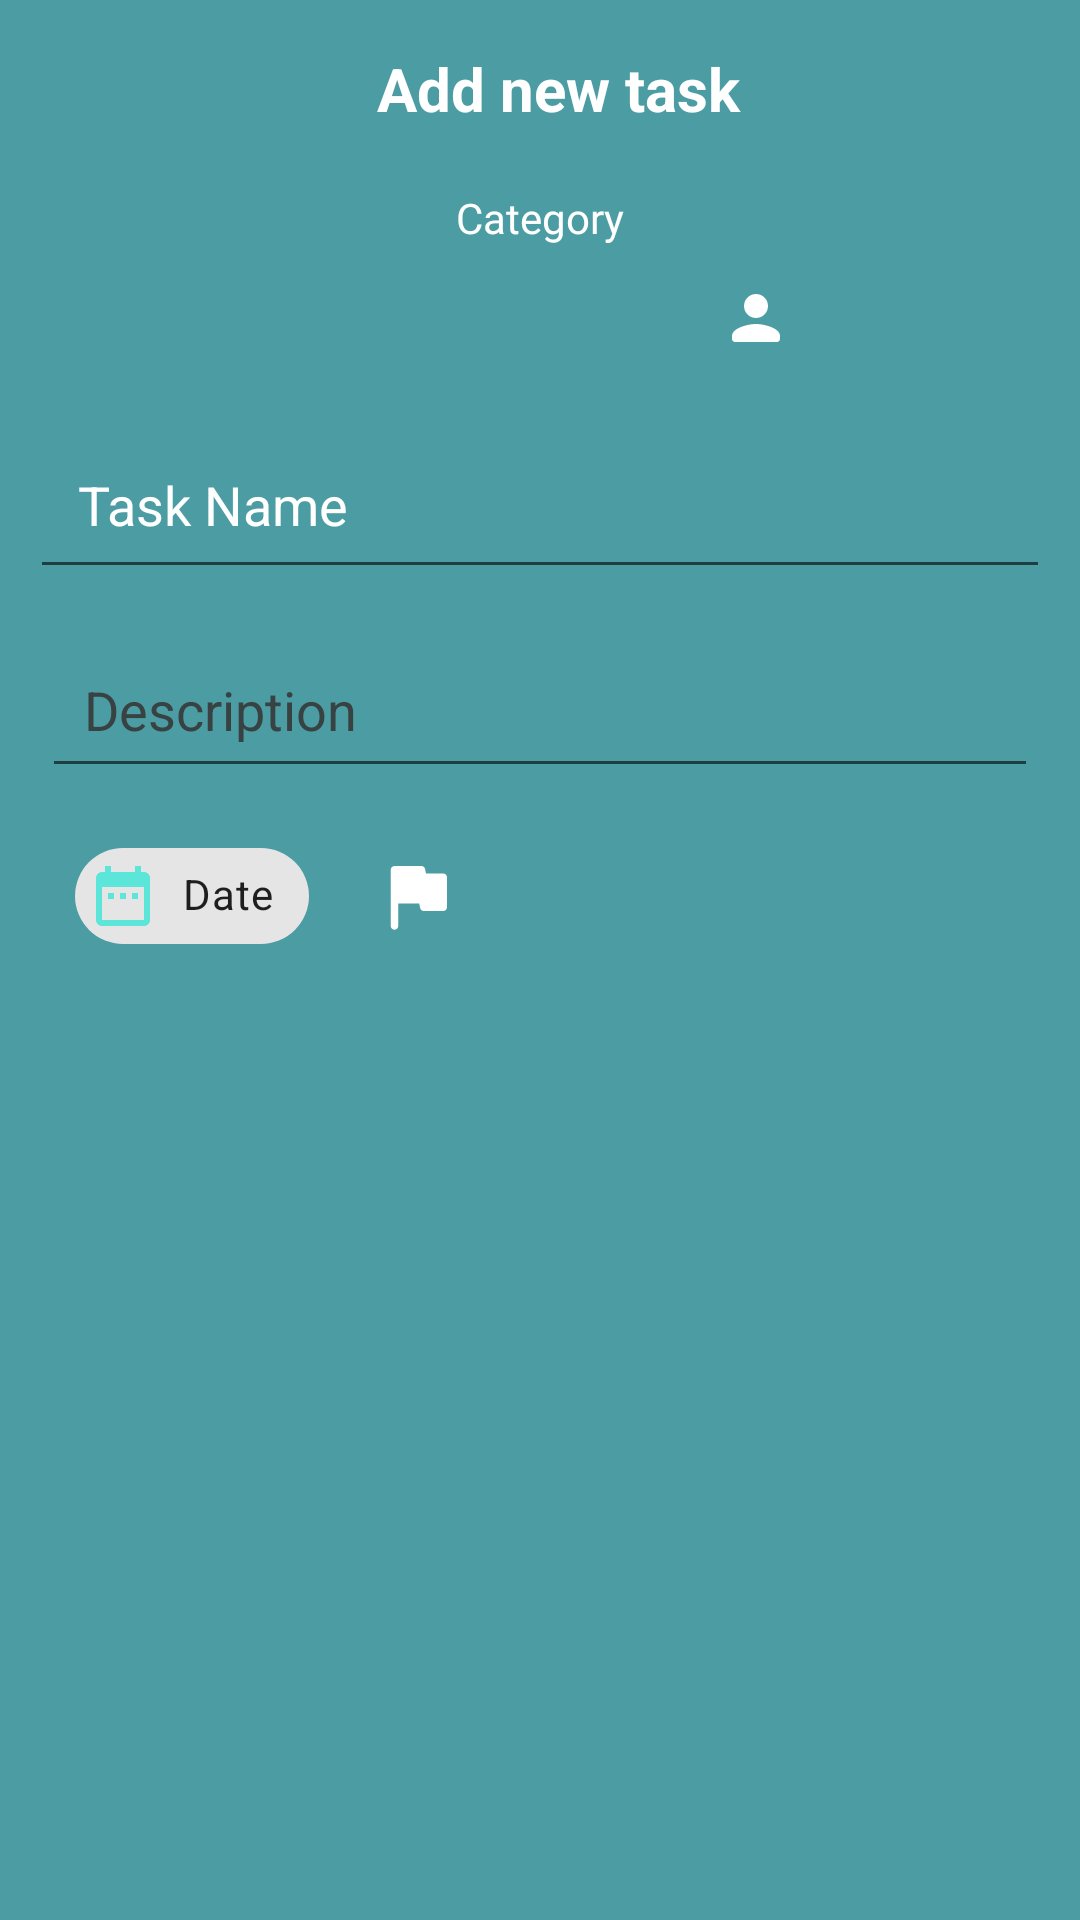

Named icons in this screenshot (1080x1920) and their centers, (x,y):
Priority Button: (418,898)
